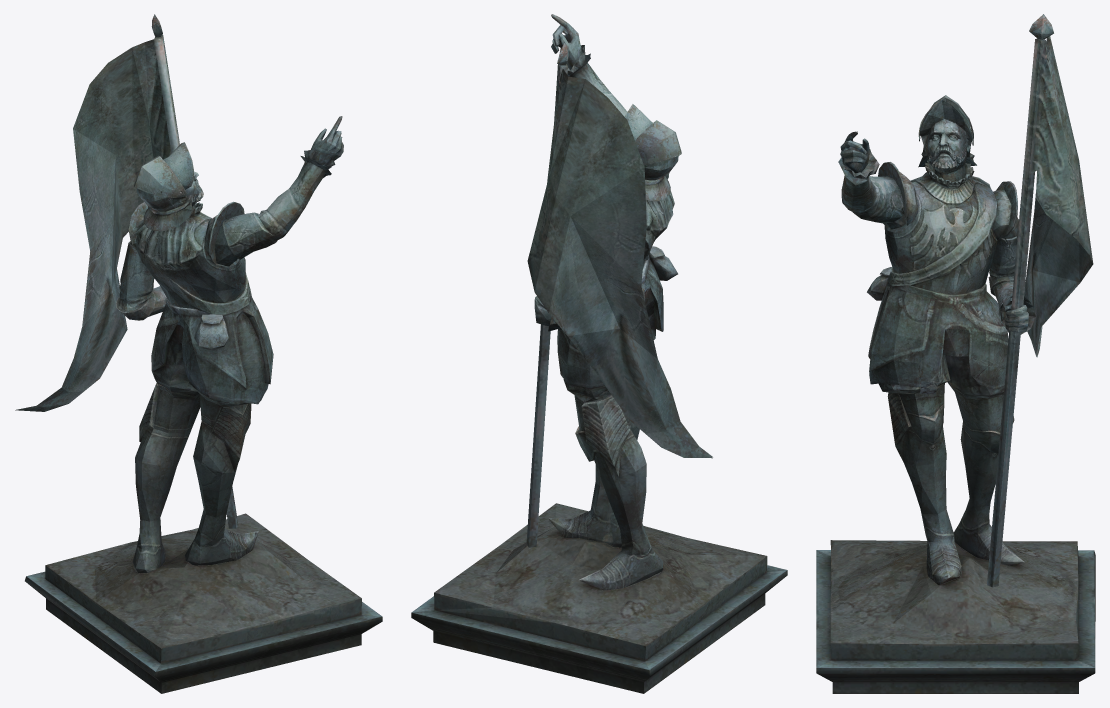
Rendered from bg_lut_lucastle_herostatue13_sm_artree.FBX.
3 views of the same model, side by side, from view 1: azimuth 30°, elevation 25°; view 2: azimuth 150°, elevation 25°; view 3: azimuth 270°, elevation 25° (orthographic). The views are drawn at different scales.
Parts seen in each view (by area): view 1: bg_lut_lucastle_herostatue13_sm_artree; view 2: bg_lut_lucastle_herostatue13_sm_artree; view 3: bg_lut_lucastle_herostatue13_sm_artree.
Boxes of the visible parts, <box> form: bg_lut_lucastle_herostatue13_sm_artree: <box>15,14,382,693</box>; bg_lut_lucastle_herostatue13_sm_artree: <box>411,14,787,693</box>; bg_lut_lucastle_herostatue13_sm_artree: <box>816,14,1095,693</box>.
Size of the model in its own units: 183 by 390 by 158.
